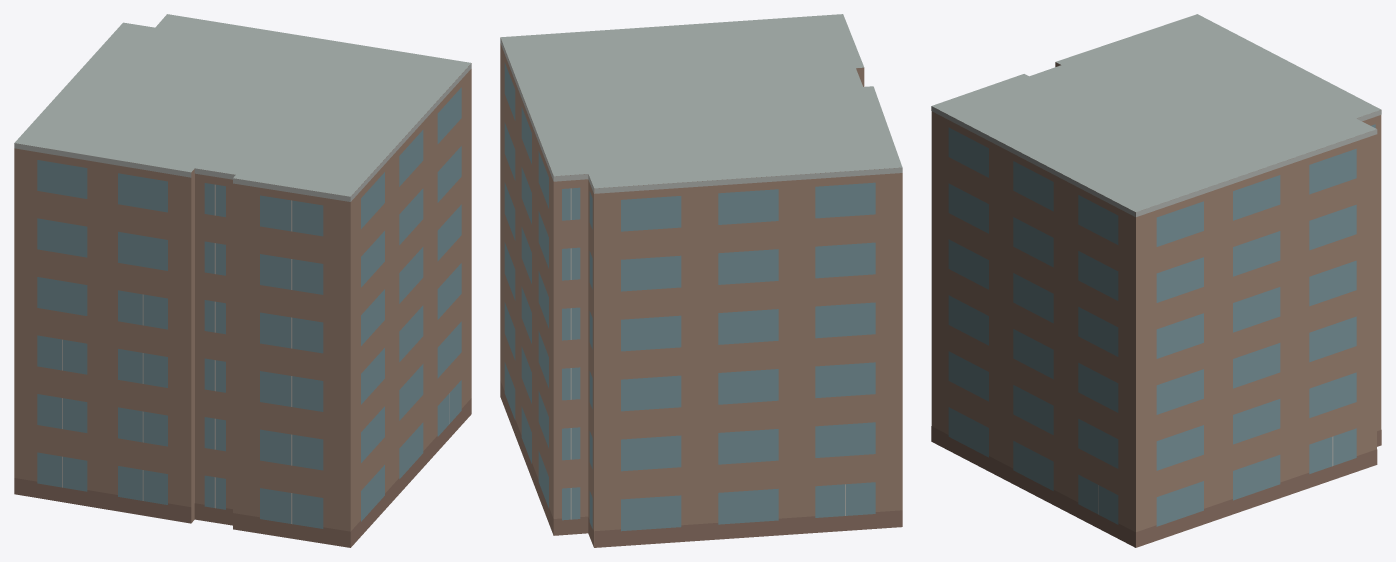
The model's file is survey-upis-32727650.glb.
The picture shows the model from 3 angles, left to right: view 1: azimuth 30°, elevation 25°; view 2: azimuth 150°, elevation 25°; view 3: azimuth 270°, elevation 25°; orthographic projection. The views are drawn at different scales.
Parts seen in each view (by area): view 1: survey-upis-32727650.tmp; view 2: survey-upis-32727650.tmp; view 3: survey-upis-32727650.tmp.
Part boxes in pixels (x1,y1,x2,y2): survey-upis-32727650.tmp: (14, 14, 471, 547); survey-upis-32727650.tmp: (500, 14, 902, 547); survey-upis-32727650.tmp: (931, 14, 1381, 547).
Bounding box in the file's own units: 20.47 × 16.15 × 19.63.
